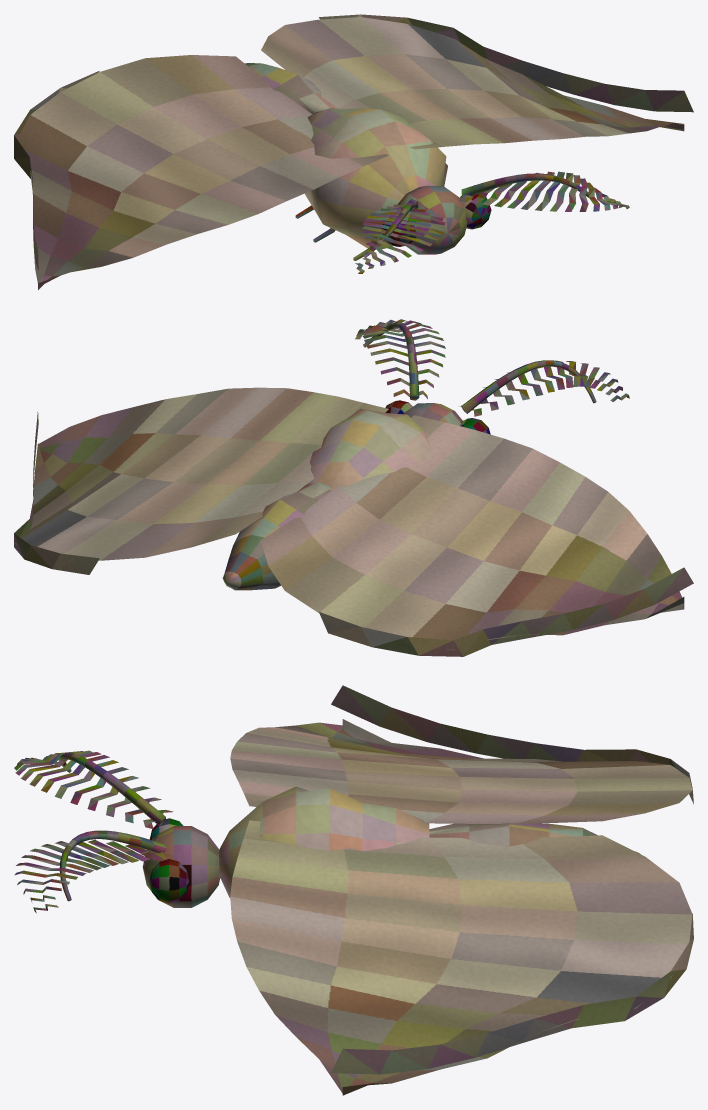
Rendered from Motte.fbx.
The picture shows the model from 3 angles, top to bottom: view 1: azimuth 30°, elevation 25°; view 2: azimuth 150°, elevation 25°; view 3: azimuth 270°, elevation 25°; orthographic projection. The views are drawn at different scales.
Visible parts, largest first — view 1: Wing_L, Wing_R, Koerper, Fuehler_R, Fuehler_L; view 2: Wing_L, Wing_R, Koerper, Fuehler_L, Fuehler_R; view 3: Wing_R, Wing_L, Koerper, Fuehler_R, Fuehler_L.
Part boxes in pixels (<box>): Wing_L: <box>14,55,388,289</box>; Wing_R: <box>261,14,693,149</box>; Koerper: <box>245,63,491,254</box>; Fuehler_R: <box>459,171,629,211</box>; Fuehler_L: <box>355,199,445,273</box>; Wing_L: <box>261,415,693,656</box>; Wing_R: <box>14,387,388,574</box>; Koerper: <box>222,400,490,590</box>; Fuehler_L: <box>459,360,629,416</box>; Fuehler_R: <box>355,319,445,400</box>; Wing_R: <box>230,820,693,1095</box>; Wing_L: <box>230,685,693,823</box>; Koerper: <box>142,786,639,907</box>; Fuehler_R: <box>14,830,173,913</box>; Fuehler_L: <box>14,750,173,829</box>.
Size of the model in its own units: 0.1308 by 0.0233 by 0.102.
2 materials, 2 textured.
